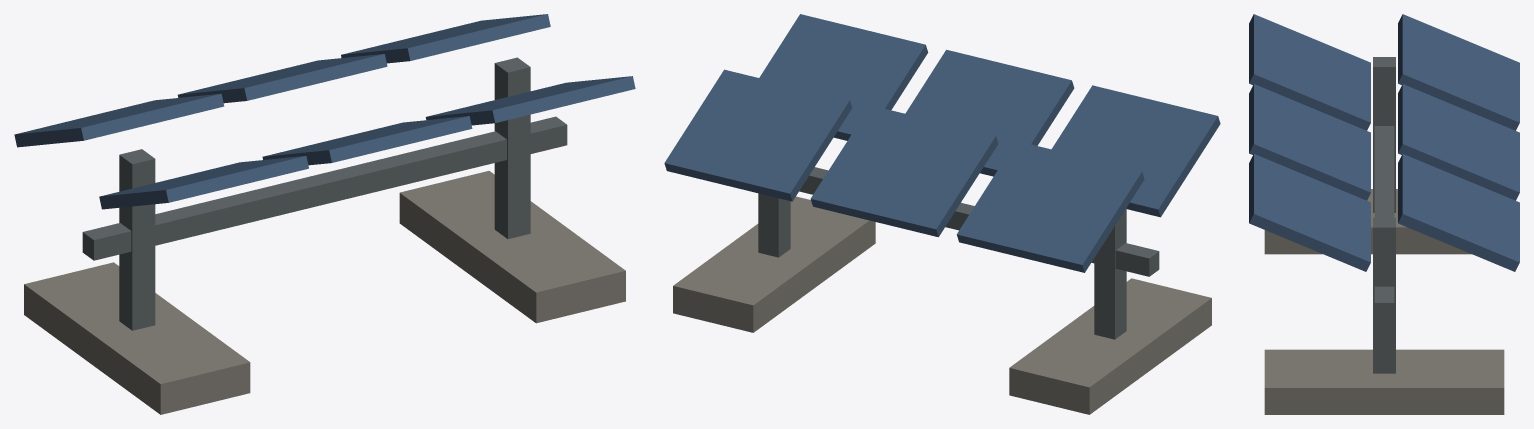
Rendered from SolarPanels.glb.
3 views of the same model, side by side, from view 1: azimuth 30°, elevation 25°; view 2: azimuth 150°, elevation 25°; view 3: azimuth 270°, elevation 25° (orthographic). The views are drawn at different scales.
Visible parts, largest first — view 1: hand-pump-static-solar-concrete, hand-pump-static-solar-frame-steel, hand-pump-static-solar-panel-blue; view 2: hand-pump-static-solar-panel-blue, hand-pump-static-solar-concrete, hand-pump-static-solar-frame-steel; view 3: hand-pump-static-solar-panel-blue, hand-pump-static-solar-concrete, hand-pump-static-solar-frame-steel.
Boxes of the visible parts, x1,y1,x2,y2 form: hand-pump-static-solar-concrete: (24,171,625,414); hand-pump-static-solar-frame-steel: (82,57,567,330); hand-pump-static-solar-panel-blue: (14,14,635,209); hand-pump-static-solar-panel-blue: (664,14,1220,272); hand-pump-static-solar-concrete: (673,196,1211,414); hand-pump-static-solar-frame-steel: (758,167,1159,339); hand-pump-static-solar-panel-blue: (1249,14,1519,271); hand-pump-static-solar-concrete: (1264,189,1504,414); hand-pump-static-solar-frame-steel: (1373,57,1395,373).
Size of the model in its own units: 2.9 by 1.34 by 1.64.
